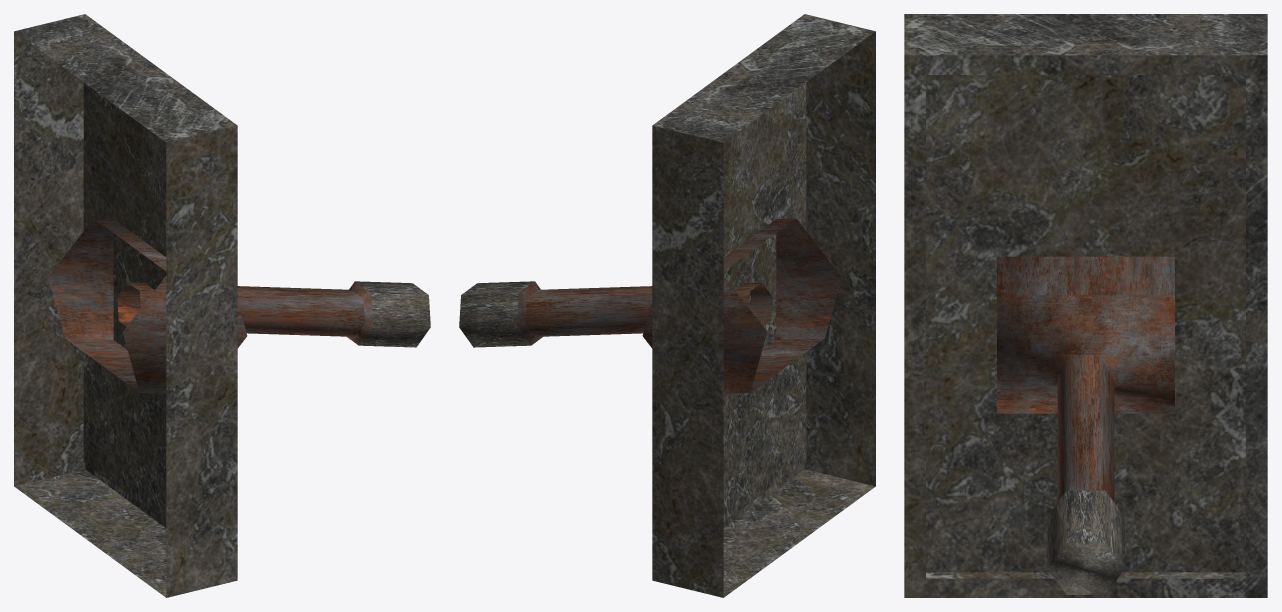
Rendered from lever_anim16.obj.
The picture shows the model from 3 angles, left to right: view 1: azimuth 30°, elevation 25°; view 2: azimuth 150°, elevation 25°; view 3: azimuth 270°, elevation 25°; orthographic projection. The views are drawn at different scales.
Parts seen in each view (by area): view 1: Cube, Cylinder; view 2: Cube, Cylinder; view 3: Cube, Cylinder.
Boxes of the visible parts, x1,y1,x2,y2 form: Cube: [14, 14, 237, 597]; Cylinder: [48, 218, 430, 393]; Cube: [652, 14, 875, 597]; Cylinder: [459, 218, 841, 393]; Cube: [904, 14, 1267, 597]; Cylinder: [997, 256, 1174, 594].
Size of the model in its own units: 1.54 by 2 by 1.21.
2 materials, 2 textured.
